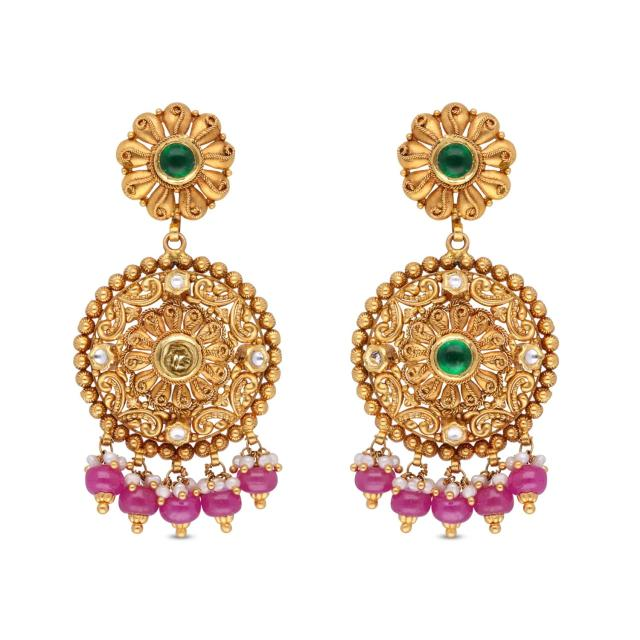missing gem: (161, 340, 198, 377), (367, 350, 381, 367)
